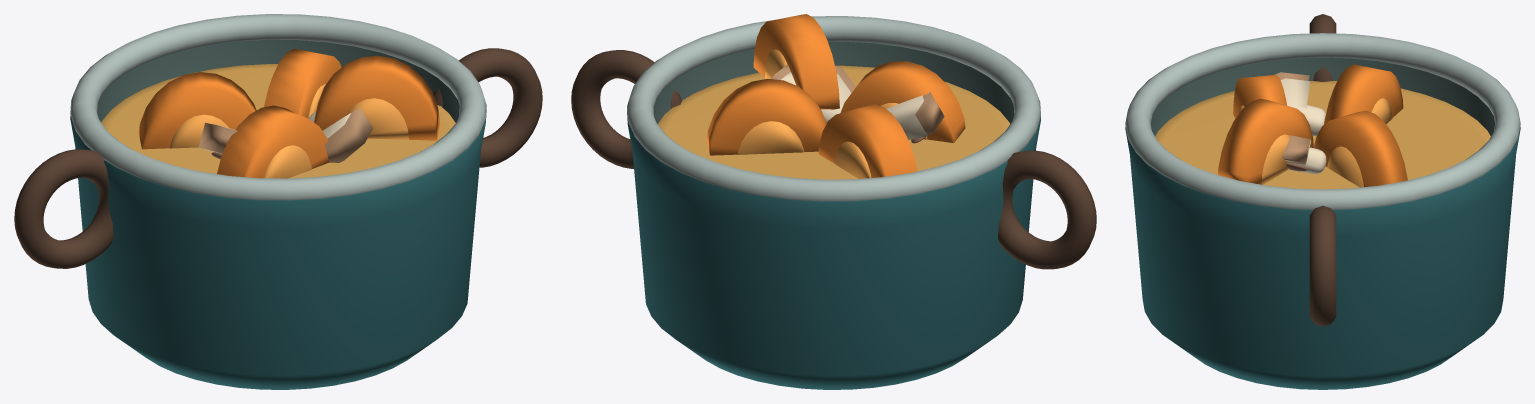
Rendered from pot-cooking.obj.
The picture shows the model from 3 angles, left to right: view 1: azimuth 30°, elevation 25°; view 2: azimuth 150°, elevation 25°; view 3: azimuth 270°, elevation 25°; orthographic projection. The views are drawn at different scales.
Parts seen in each view (by area): view 1: pot-cooking_teal, pot-cooking_metal, pot-cooking_carrot, pot-cooking_cocoa, pot-cooking_soup, pot-cooking_darkMetal, pot-cooking_carrotCore, pot-cooking_mushroom; view 2: pot-cooking_teal, pot-cooking_metal, pot-cooking_carrot, pot-cooking_cocoa, pot-cooking_soup, pot-cooking_darkMetal, pot-cooking_carrotCore, pot-cooking_mushroomFlesh, pot-cooking_mushroom; view 3: pot-cooking_teal, pot-cooking_metal, pot-cooking_carrot, pot-cooking_soup, pot-cooking_darkMetal, pot-cooking_cocoa, pot-cooking_carrotCore, pot-cooking_mushroomFlesh, pot-cooking_mushroom.
Boxes of the visible parts, x1=… form: pot-cooking_teal: x1=70, y1=109, x2=486, y2=389; pot-cooking_metal: x1=70, y1=14, x2=486, y2=200; pot-cooking_carrot: x1=138, y1=49, x2=440, y2=178; pot-cooking_cocoa: x1=14, y1=48, x2=542, y2=268; pot-cooking_soup: x1=101, y1=64, x2=455, y2=178; pot-cooking_darkMetal: x1=97, y1=39, x2=459, y2=122; pot-cooking_carrotCore: x1=170, y1=84, x2=408, y2=178; pot-cooking_mushroom: x1=198, y1=108, x2=373, y2=162; pot-cooking_teal: x1=627, y1=111, x2=1040, y2=389; pot-cooking_metal: x1=627, y1=16, x2=1040, y2=201; pot-cooking_carrot: x1=706, y1=14, x2=965, y2=177; pot-cooking_cocoa: x1=571, y1=50, x2=1096, y2=269; pot-cooking_soup: x1=657, y1=65, x2=1009, y2=179; pot-cooking_darkMetal: x1=653, y1=41, x2=1014, y2=123; pot-cooking_carrotCore: x1=738, y1=49, x2=927, y2=178; pot-cooking_mushroomFlesh: x1=781, y1=72, x2=927, y2=139; pot-cooking_mushroom: x1=771, y1=64, x2=944, y2=135; pot-cooking_teal: x1=1125, y1=127, x2=1520, y2=389; pot-cooking_metal: x1=1125, y1=33, x2=1520, y2=209; pot-cooking_carrot: x1=1217, y1=64, x2=1407, y2=186; pot-cooking_soup: x1=1155, y1=81, x2=1490, y2=189; pot-cooking_darkMetal: x1=1151, y1=57, x2=1494, y2=135; pot-cooking_cocoa: x1=1309, y1=14, x2=1336, y2=326; pot-cooking_carrotCore: x1=1239, y1=98, x2=1392, y2=187; pot-cooking_mushroomFlesh: x1=1280, y1=78, x2=1326, y2=173; pot-cooking_mushroom: x1=1275, y1=72, x2=1310, y2=163.
Size of the model in its own units: 0.494 by 0.2405 by 0.34.
